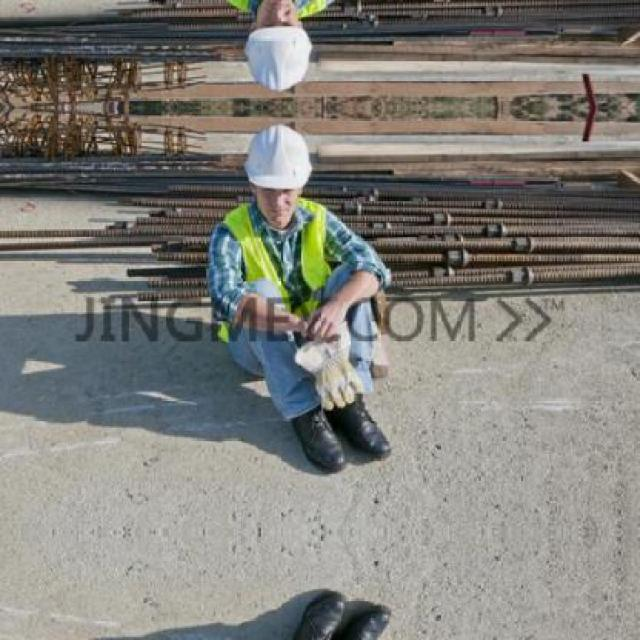helmet: (235, 117, 316, 225), (234, 0, 317, 97)
